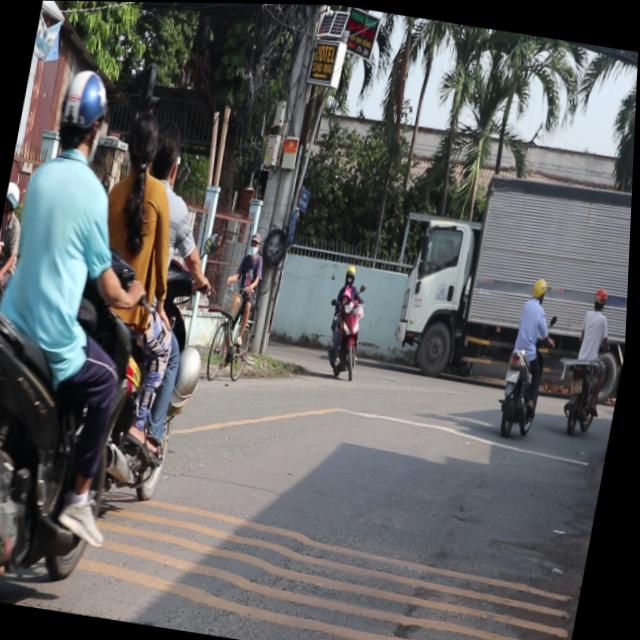helmet: (49, 63, 116, 162)
licenseplate: (0, 56, 204, 618), (50, 105, 247, 517)
motorcyclist: (122, 107, 164, 175), (147, 119, 188, 187)
